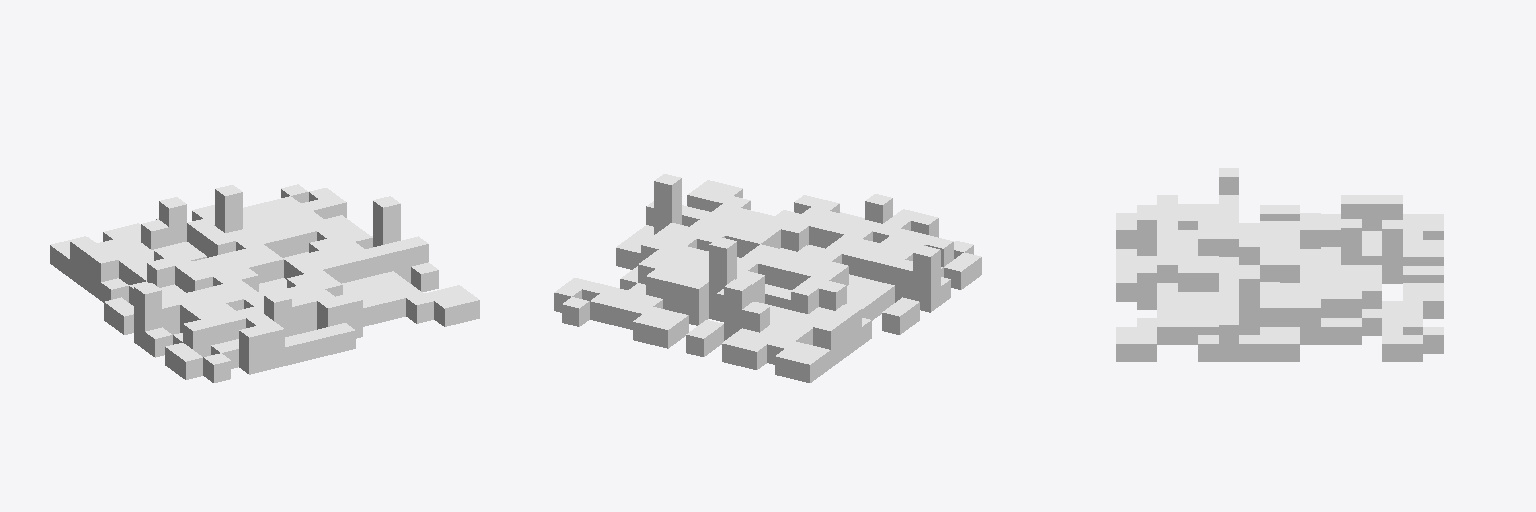
File: path_grass1.obj
The picture shows the model from 3 angles: view 1: azimuth 30°, elevation 25°; view 2: azimuth 150°, elevation 25°; view 3: azimuth 270°, elevation 25°; orthographic projection.
Parts seen in each view (by area): view 1: object 1; view 2: object 1; view 3: object 1.
Boxes of the visible parts, <box> form: object 1: <box>50,184,479,382</box>; object 1: <box>554,174,981,382</box>; object 1: <box>1116,168,1443,361</box>.
Bounding box in the file's own units: 1.6 × 0.4 × 1.6.